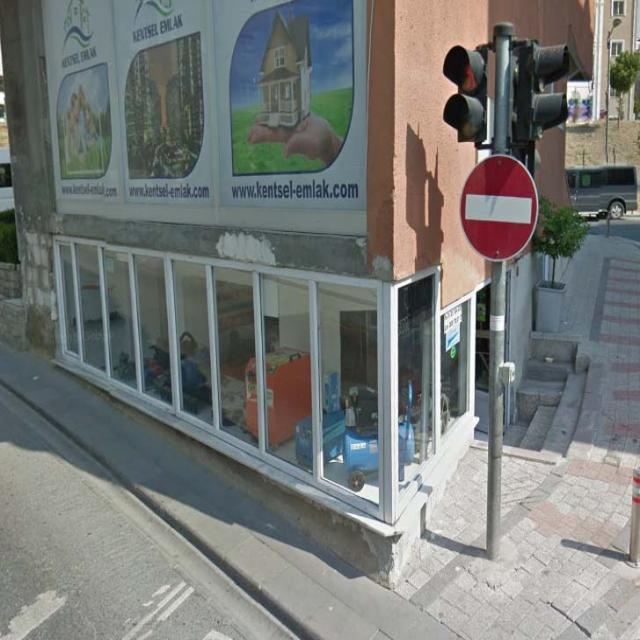girisyok: (461, 154, 538, 260)
